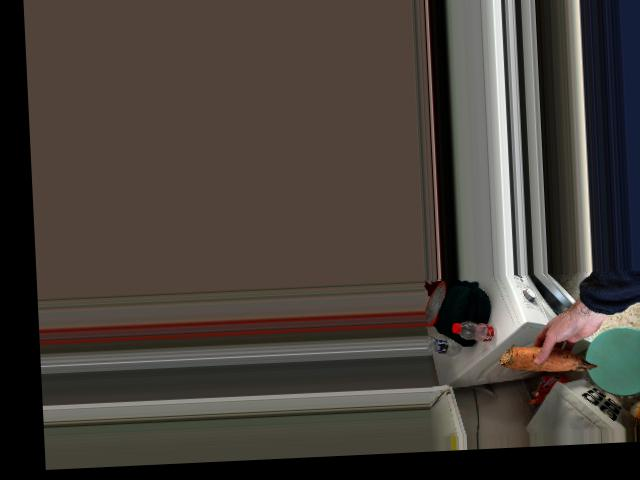sweet_potato: (494, 340, 591, 371)
